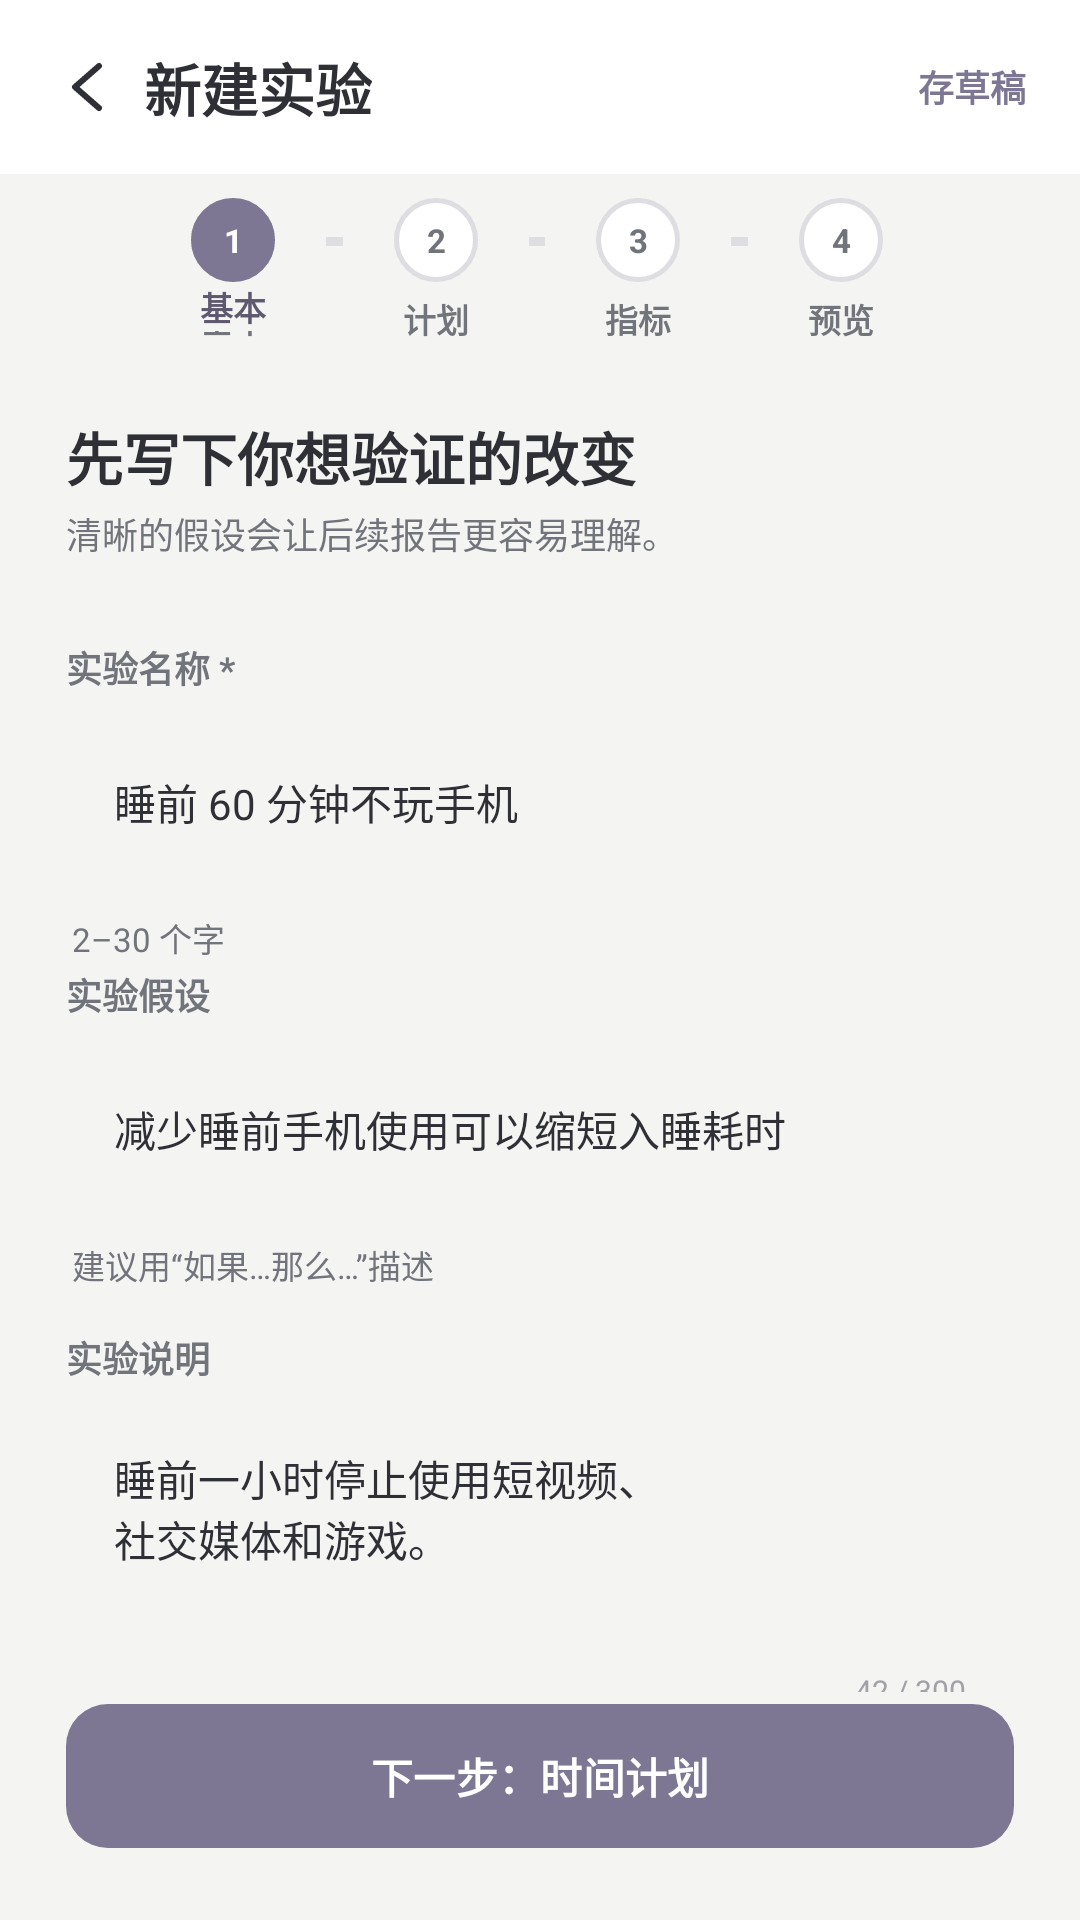

Point at icon controls on the screen. Image size 1080 × 1920, points as (x,y).
返回: (86,87)
